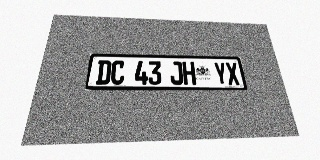3: (148, 61, 161, 85)
4: (135, 61, 148, 85)
C: (110, 60, 125, 85)
D: (96, 60, 112, 85)
H: (182, 62, 196, 85)
J: (170, 61, 183, 85)
X: (225, 62, 240, 85)
Y: (213, 62, 228, 85)
